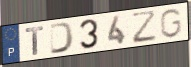3: (78, 17, 102, 51)
4: (107, 14, 128, 46)
D: (49, 21, 76, 56)
G: (159, 7, 184, 39)
T: (24, 25, 45, 56)
Z: (130, 9, 159, 45)
